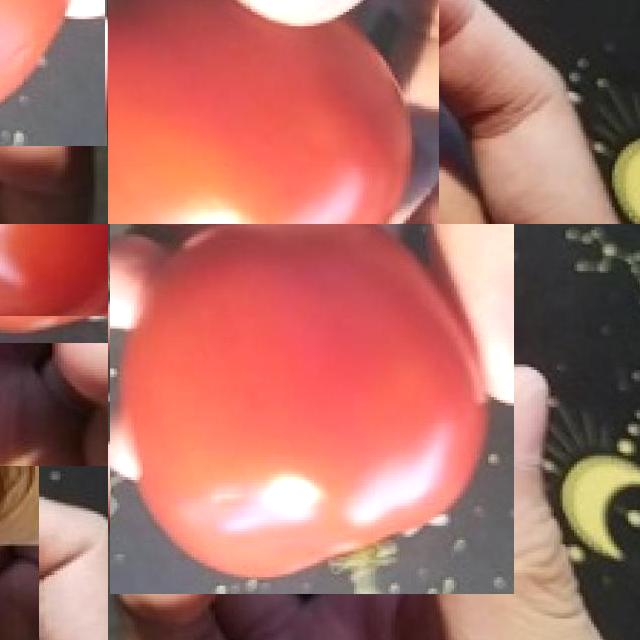Fresh Tomato: (110, 224, 514, 594), (108, 0, 439, 224), (0, 0, 107, 146), (0, 224, 108, 329)
